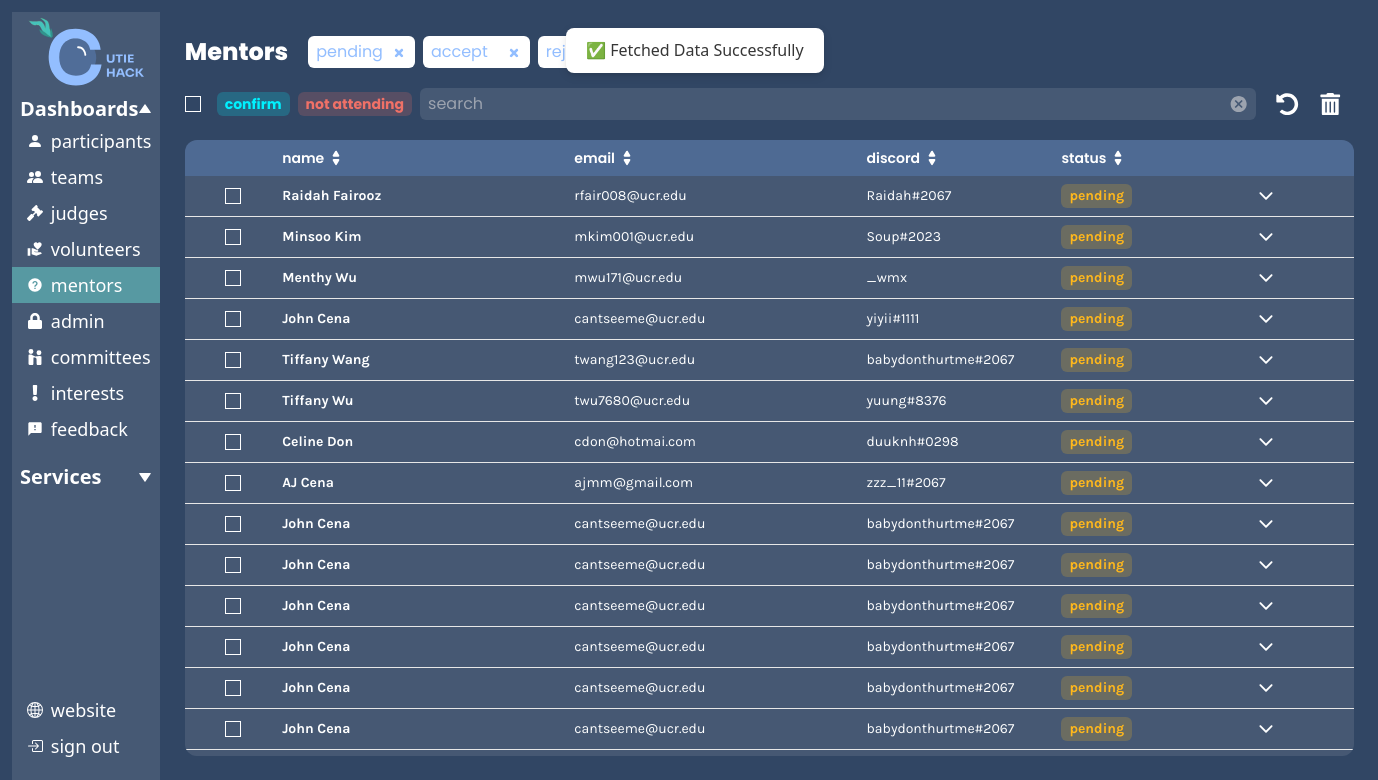
Mentor Sort › Sort Email Up
Click the icon with test id "email-sort-up" at [627, 154], box [623,150,631,158]
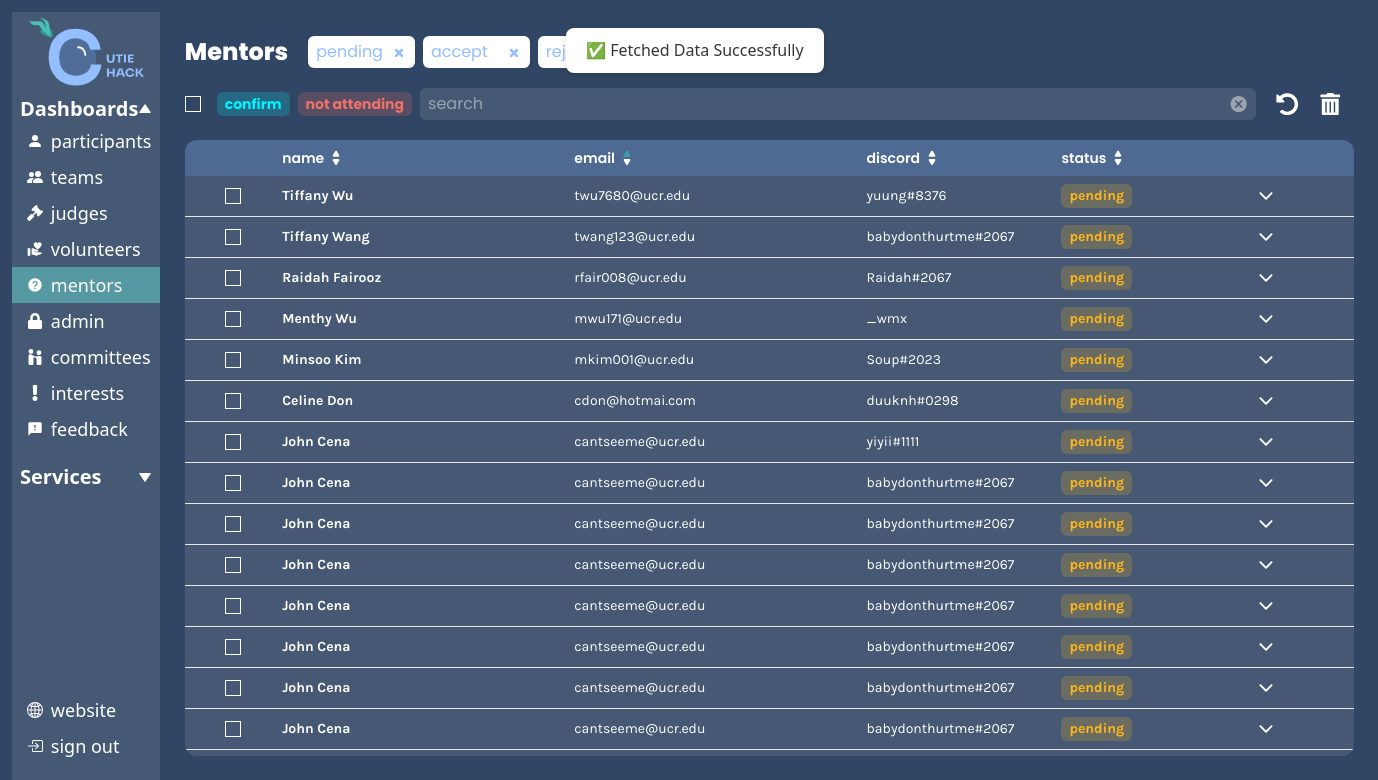
Now the text with test id "email" reads "twu7680@ucr.edu", box [574,187,690,204]
Now the text with test id "email" reads "twang123@ucr.edu", box [574,228,695,245]
Now the text with test id "email" reads "rfair008@ucr.edu", box [574,269,686,286]
